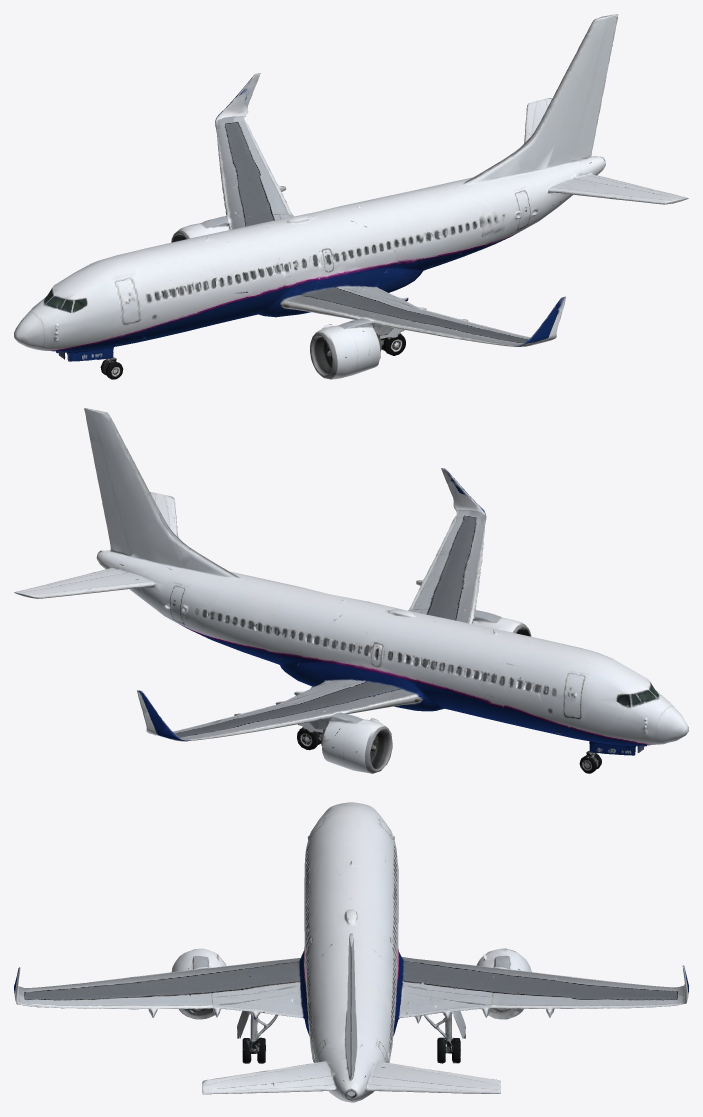
File: co_airliner.glb
3 views of the same model, one above another, from view 1: azimuth 30°, elevation 25°; view 2: azimuth 150°, elevation 25°; view 3: azimuth 270°, elevation 25° (orthographic). The views are drawn at different scales.
Bounding box in the file's own units: 1.9 × 0.7194 × 1.68.
1 material, 1 textured.
